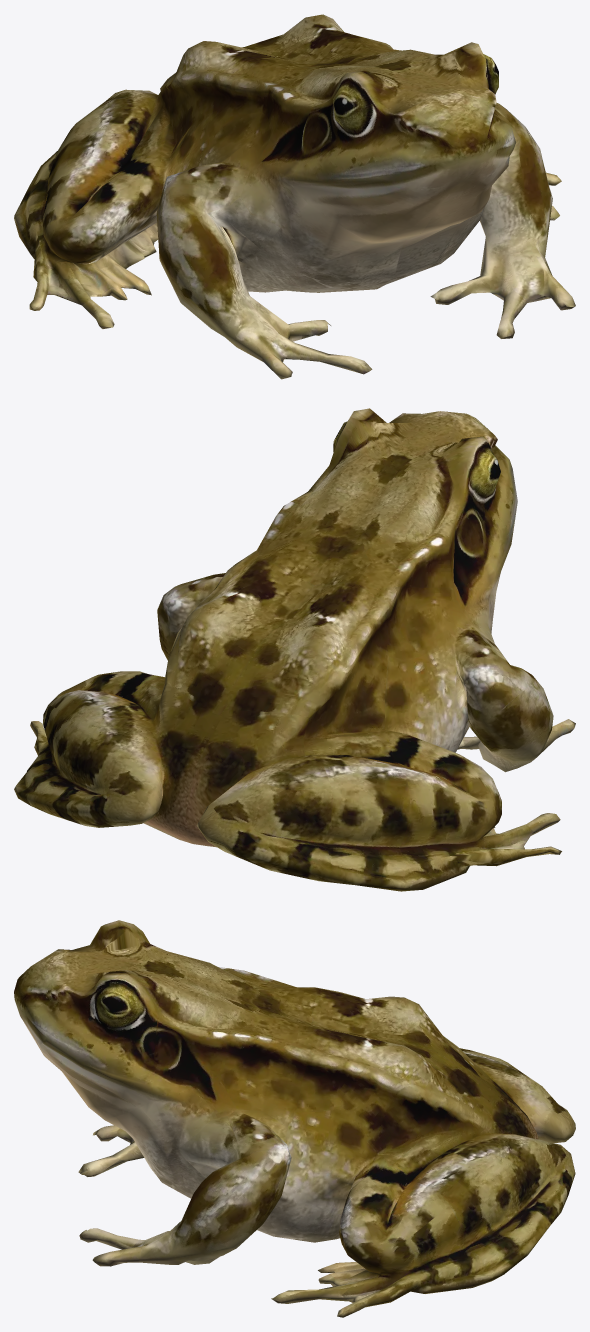
Rendered from s1_frog.glb.
3 views of the same model, one above another, from view 1: azimuth 30°, elevation 25°; view 2: azimuth 150°, elevation 25°; view 3: azimuth 270°, elevation 25° (orthographic). The views are drawn at different scales.
Visible parts, largest first — view 1: mesh_node; view 2: mesh_node; view 3: mesh_node.
Part boxes in pixels (<box>): mesh_node: <box>14,14,575,379</box>; mesh_node: <box>14,408,575,891</box>; mesh_node: <box>14,920,575,1317</box>.
Bounding box in the file's own units: 1.89 × 0.9756 × 1.9.
1 material, 1 textured.
